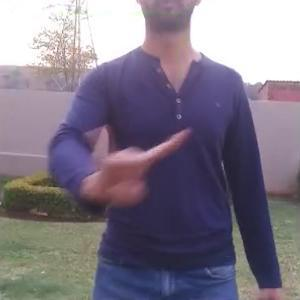takeoff-hand: (87, 122, 197, 208)
